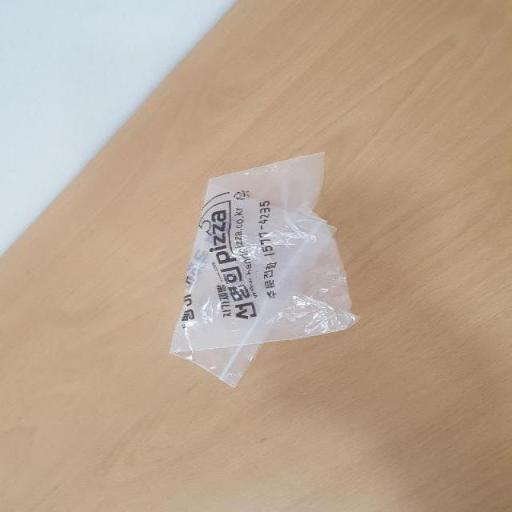plastic-bag: (168, 146, 364, 386)
